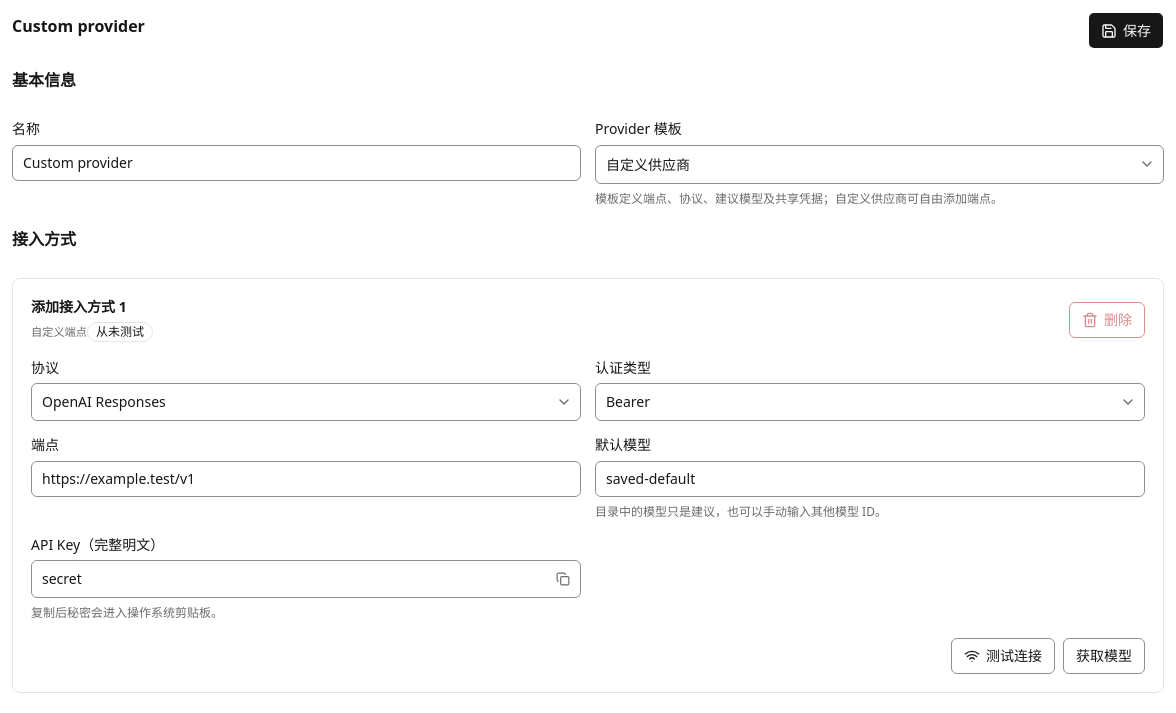
Test: ApiProviderEditor › reports a failed connection test through the global error toast
Click the button "测试连接". click: (1003, 656)
box: left=951, top=638, right=1055, bottom=674
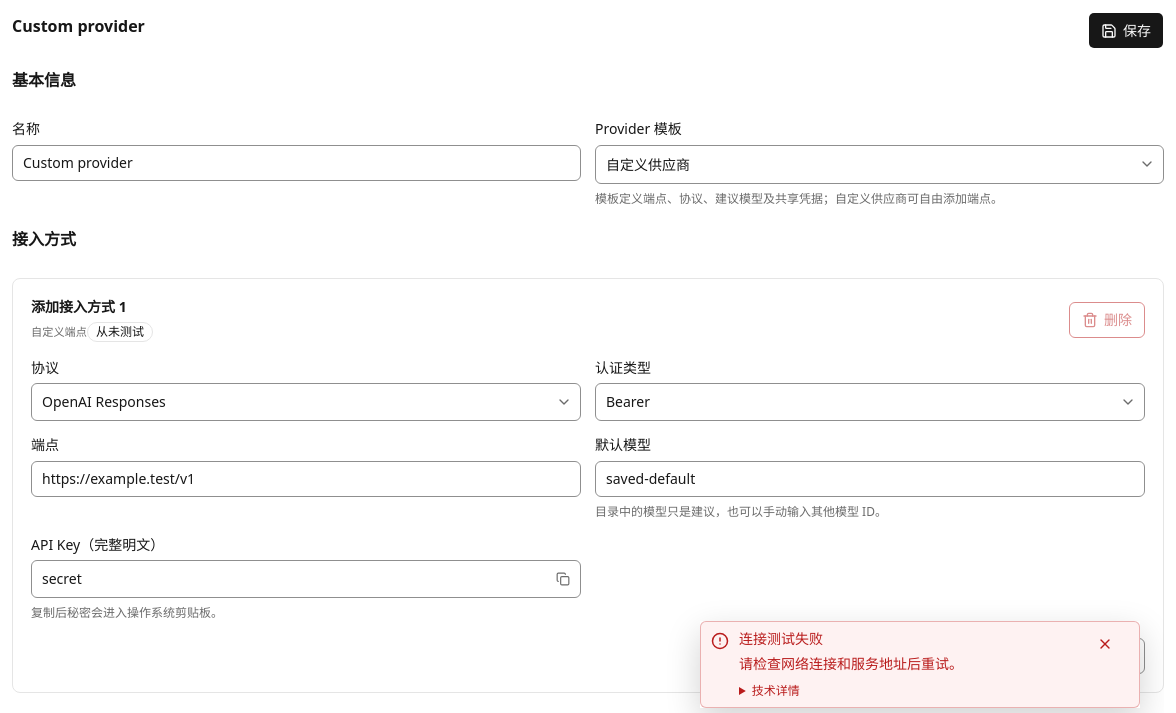
Expected: the text "连接测试失败" is shown, left=739, top=629, right=823, bottom=648
Expected: the text "连接测试失败" shows "请检查网络连接和服务地址后重试。", left=739, top=654, right=963, bottom=673
